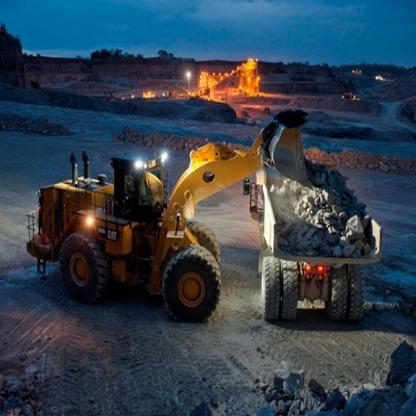bull_dozer/loader/grader: (36, 101, 302, 325)
dump_truck: (250, 166, 388, 327)
